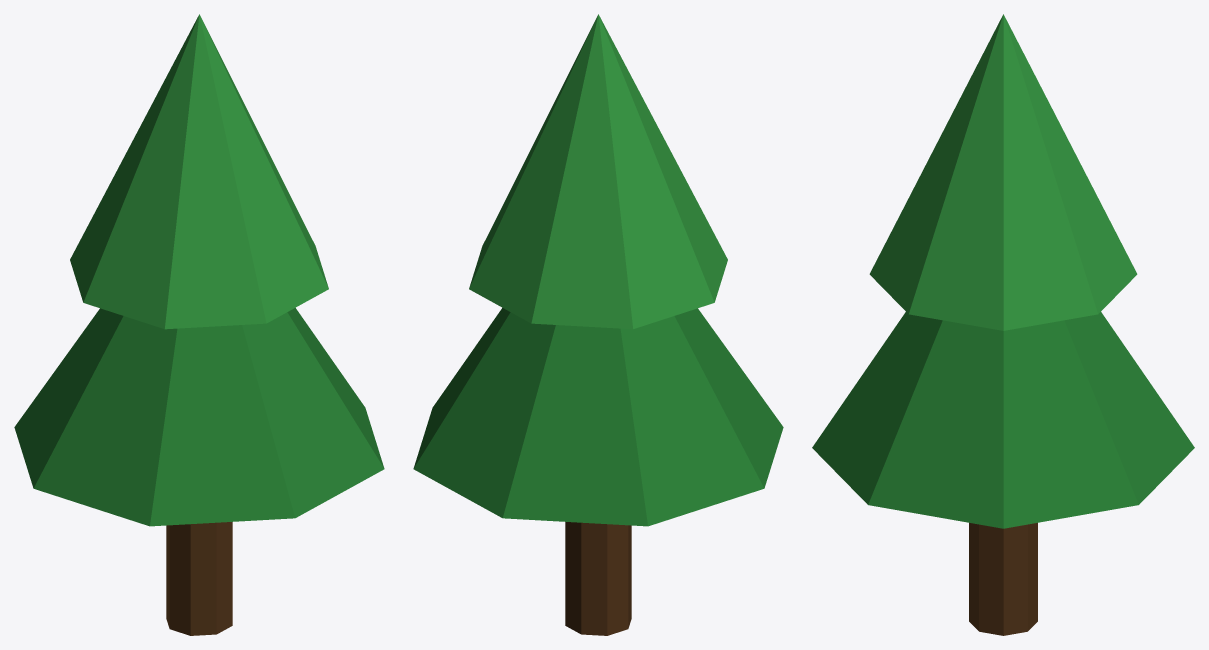
File: tree.obj
3 renders of one model, left to right at view 1: azimuth 30°, elevation 25°; view 2: azimuth 150°, elevation 25°; view 3: azimuth 270°, elevation 25°, orthographic.
Visible parts, largest first — view 1: nocol_leaves_low, nocol_leaves_high, trunk; view 2: nocol_leaves_low, nocol_leaves_high, trunk; view 3: nocol_leaves_low, nocol_leaves_high, trunk.
Boxes of the visible parts, bbox=[...] form: nocol_leaves_low: bbox=[14, 308, 384, 526]; nocol_leaves_high: bbox=[70, 14, 328, 329]; trunk: bbox=[166, 522, 232, 635]; nocol_leaves_low: bbox=[413, 308, 783, 526]; nocol_leaves_high: bbox=[469, 14, 727, 329]; trunk: bbox=[565, 522, 631, 635]; nocol_leaves_low: bbox=[812, 312, 1194, 528]; nocol_leaves_high: bbox=[869, 14, 1137, 330]; trunk: bbox=[969, 523, 1037, 635].
Size of the model in its own units: 2 by 3.5 by 2.
